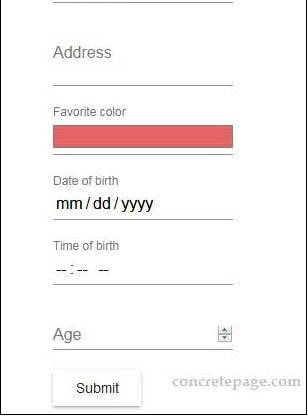button: (50, 370, 145, 409)
field_line: (49, 46, 234, 89), (50, 189, 234, 222), (48, 257, 237, 287), (49, 322, 237, 352)
field_line_with_label: (47, 240, 239, 289), (48, 175, 237, 223)
